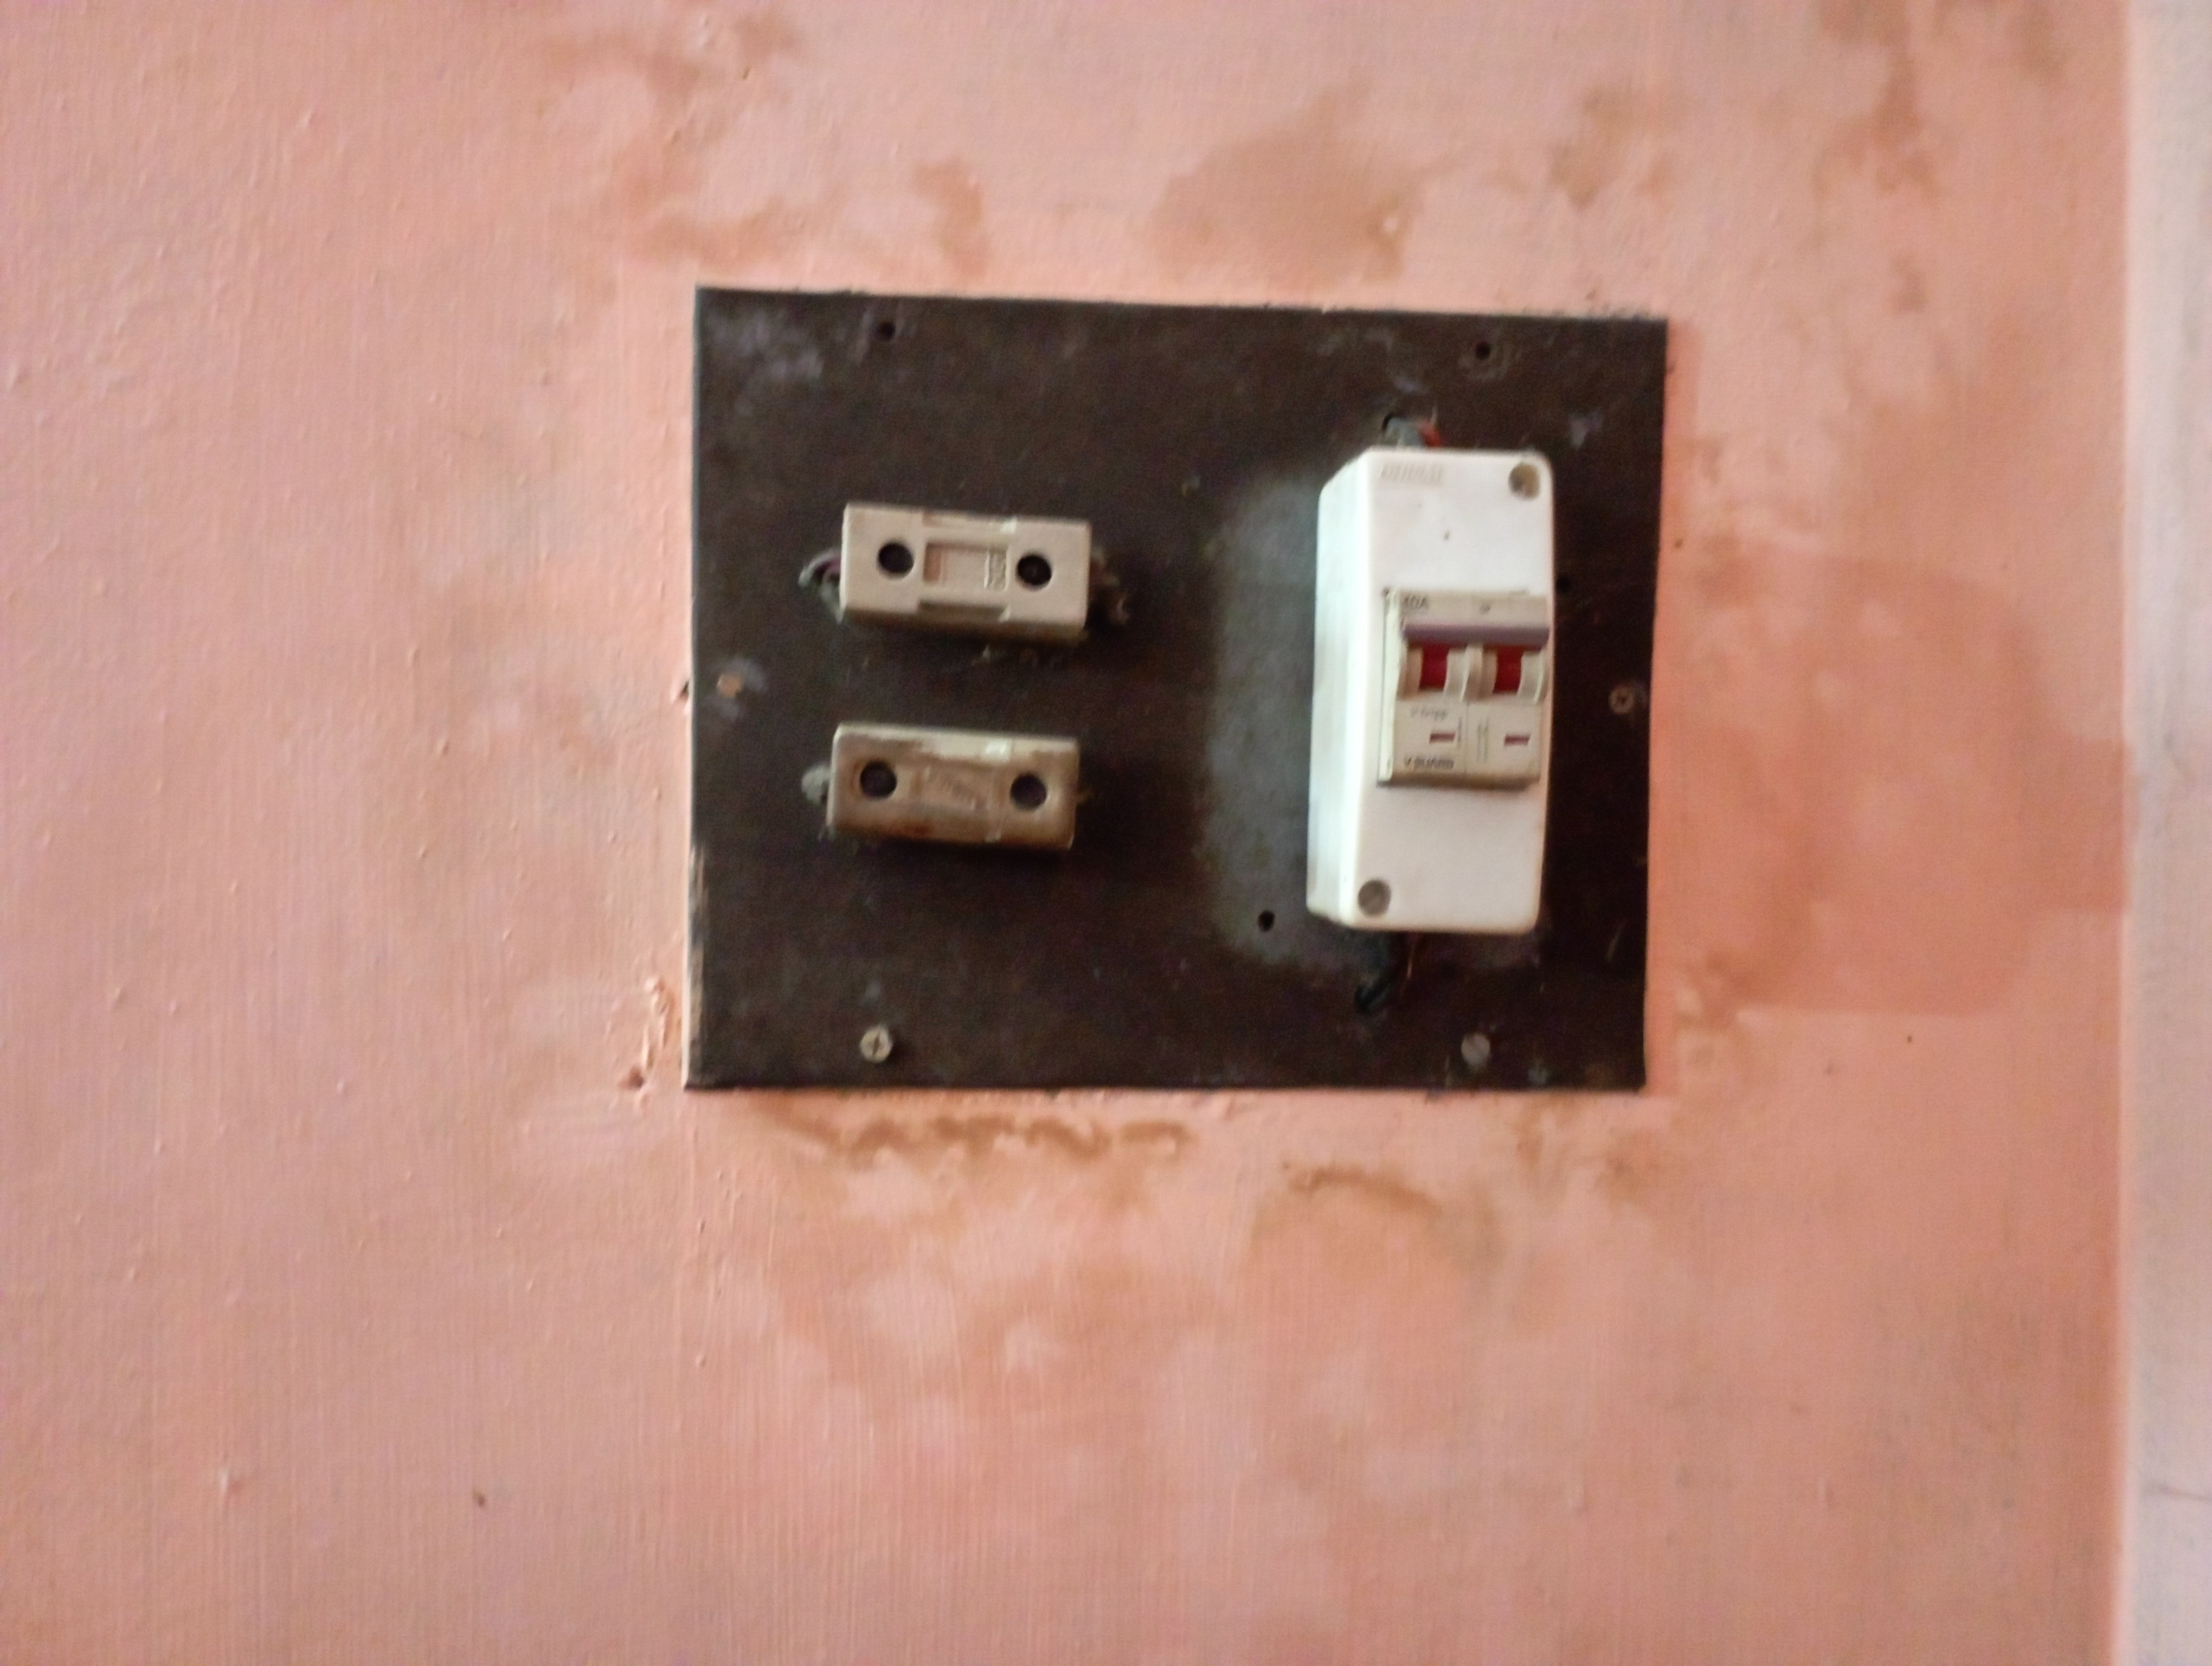ciruit_breaker: (1289, 436, 1562, 949)
fuse: (796, 711, 1095, 870), (811, 494, 1114, 642)
